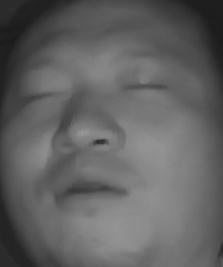blink: (121, 75, 169, 98), (17, 85, 60, 109)
mouth: (49, 164, 129, 211)
